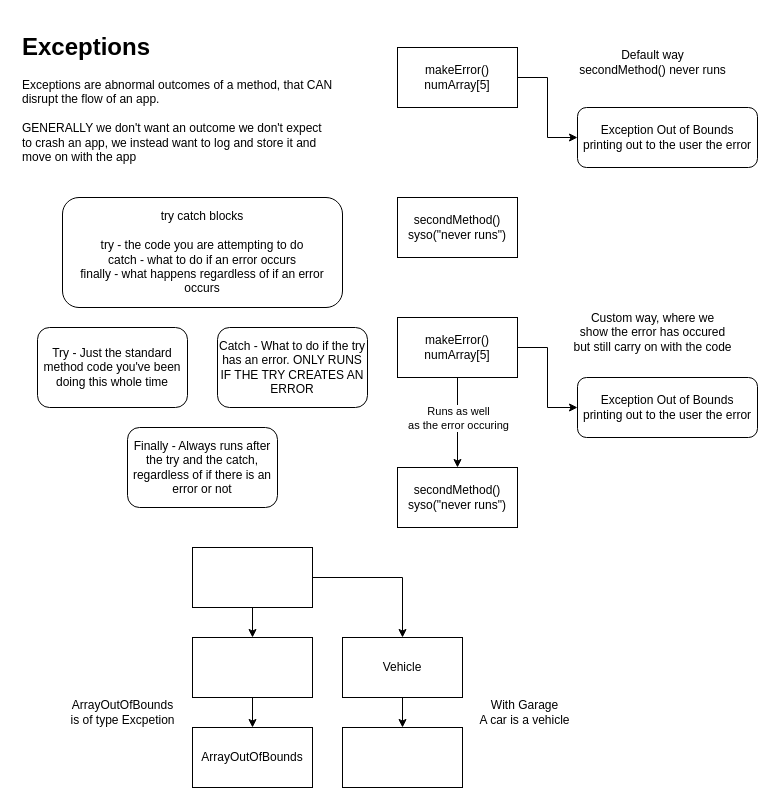
Image size: 775x805. Some labels were removed from this diagram. The shapes that lost their labels are listed below. From the top down, each one's box as (x1, y1, x2, y2) in pixels, then its label:
(192, 546, 312, 608): Object Super parent class
(192, 636, 312, 698): Exception - Parent class
(342, 726, 462, 788): Car
